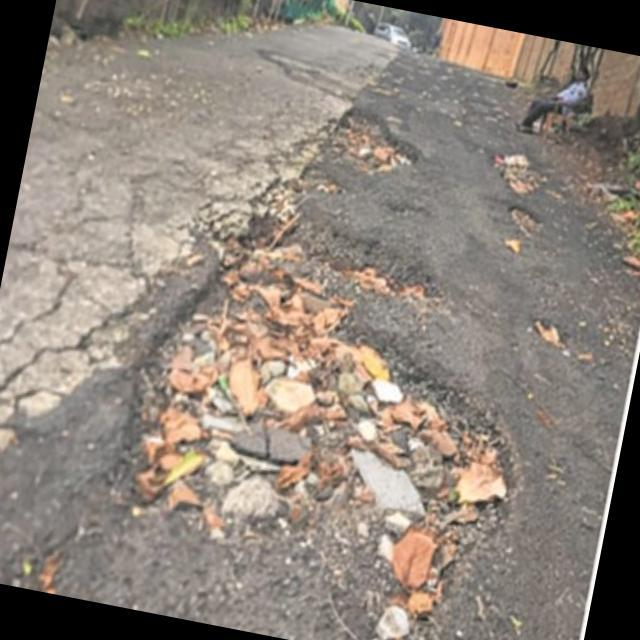Pothole: (90, 258, 540, 640), (213, 186, 449, 323), (312, 100, 434, 186)
